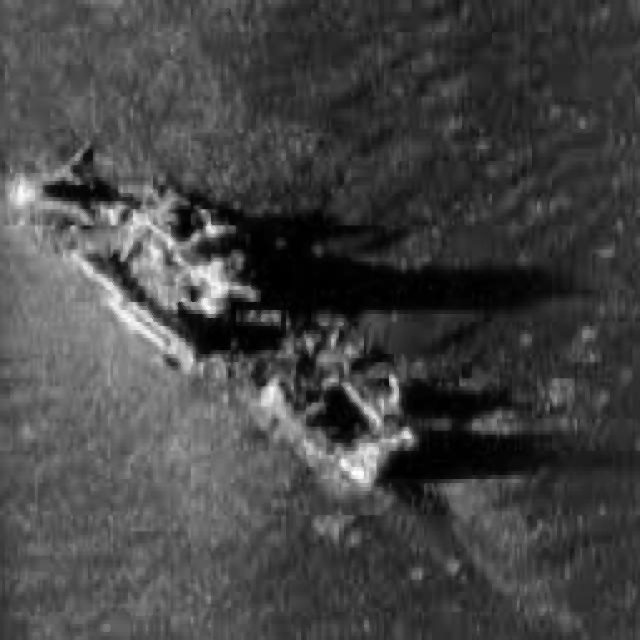Ship: (6, 121, 427, 516)
